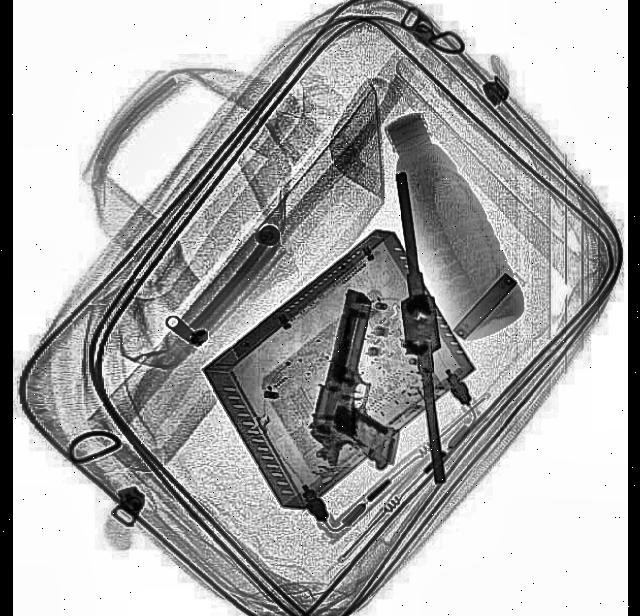Gun: (299, 286, 426, 480)
